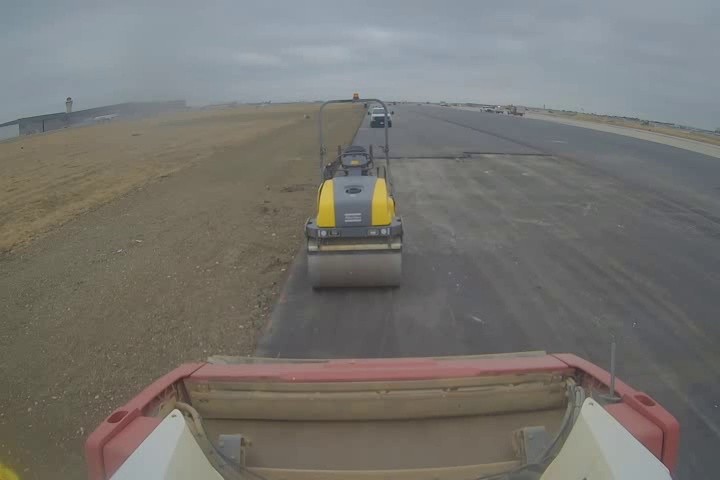vehicle: (82, 349, 679, 478), (307, 99, 404, 289), (354, 109, 382, 136)
yellow_helmet: (0, 466, 14, 479)
